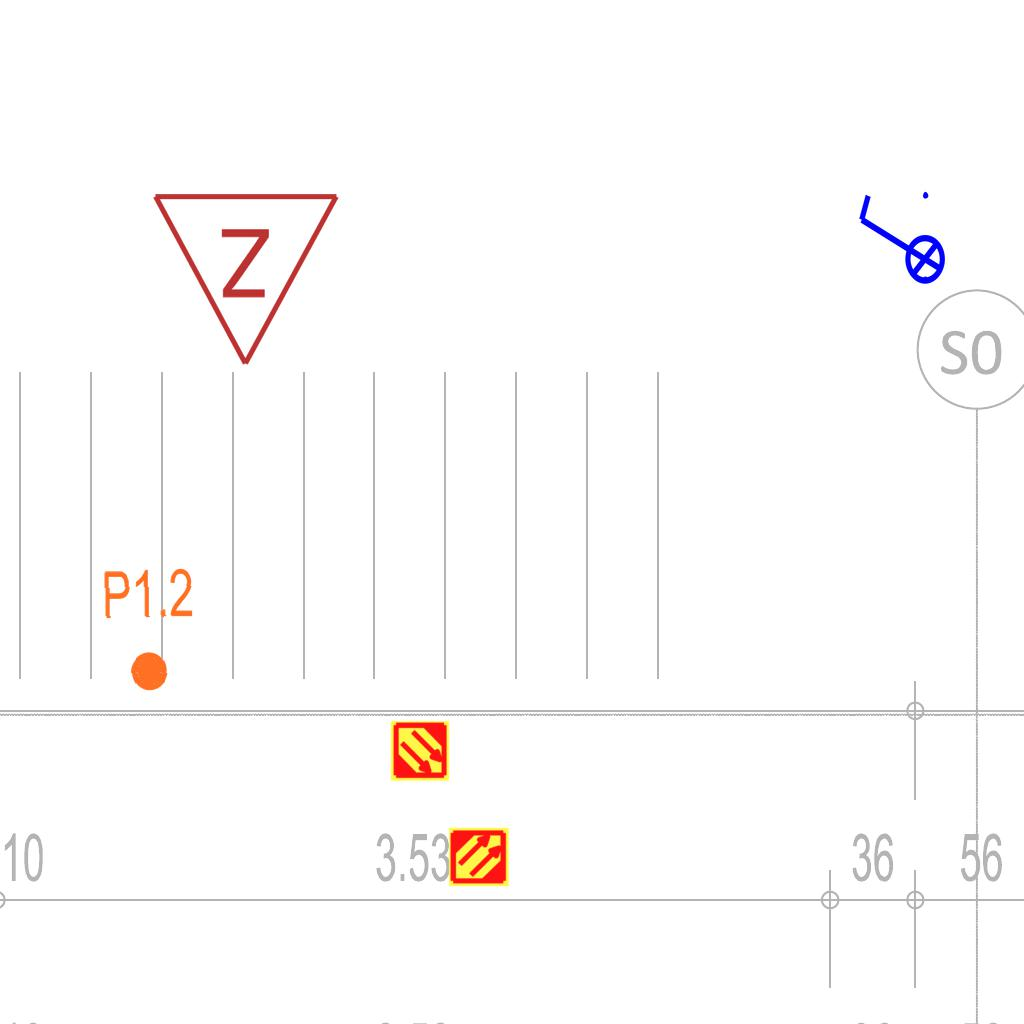ASR_Ansaugrauchmelder: (448, 826, 510, 888), (389, 720, 451, 782)
Ausschalter_beleuchtet: (851, 186, 947, 298)
Downlight_LED_Einbauleuchten_Flur: (100, 564, 199, 696)
Zimmersignalleuchte: (150, 179, 346, 379)
